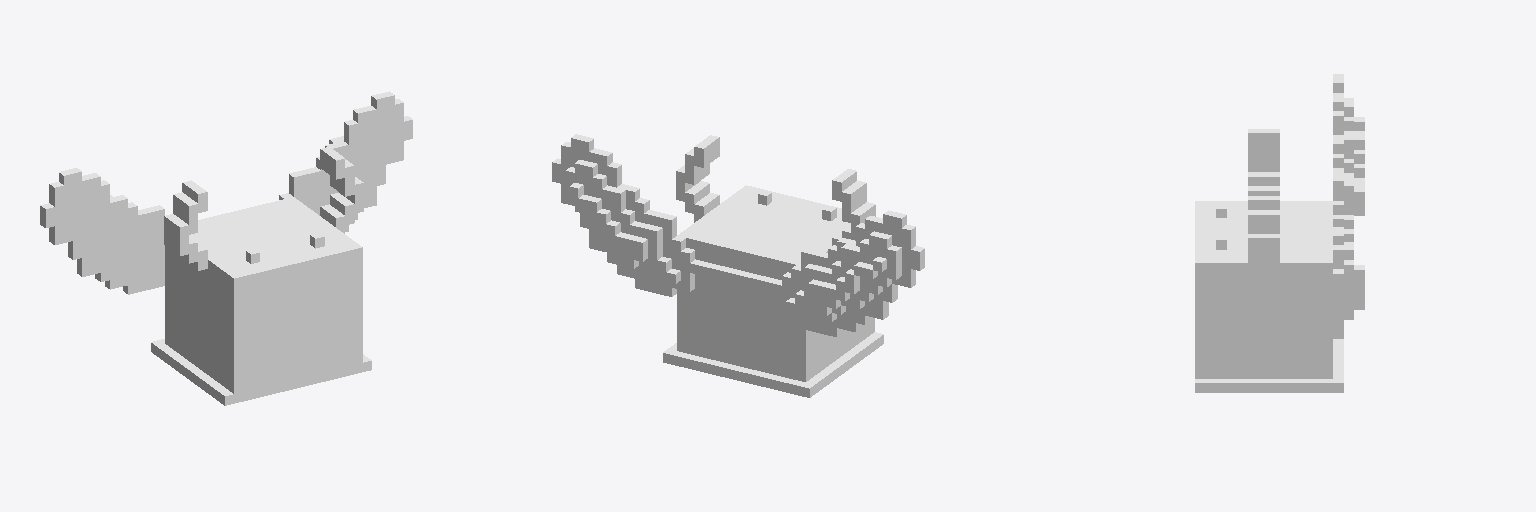
File: satan.obj
3 renders of one model, left to right at view 1: azimuth 30°, elevation 25°; view 2: azimuth 150°, elevation 25°; view 3: azimuth 270°, elevation 25°, orthographic.
Parts seen in each view (by area): view 1: object 1; view 2: object 1; view 3: object 1.
Boxes of the visible parts, x1=… form: object 1: x1=40, y1=91, x2=412, y2=405; object 1: x1=552, y1=134, x2=924, y2=397; object 1: x1=1195, y1=74, x2=1364, y2=392.
Size of the model in its own units: 4 by 2.1 by 1.6.